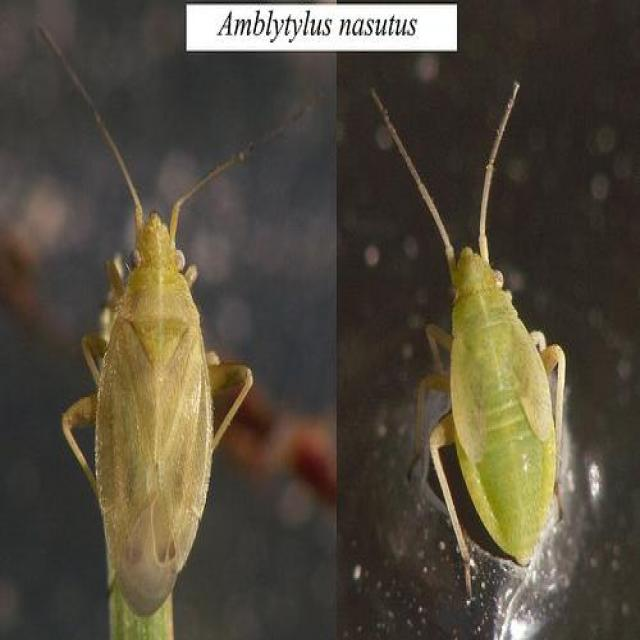Miridae-Adult-: (20, 22, 308, 621)
